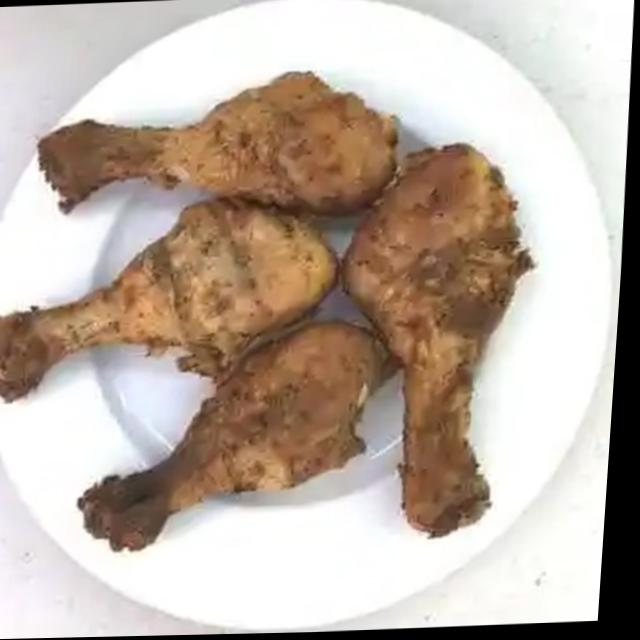CHICKEN FRY: (0, 71, 520, 550)
